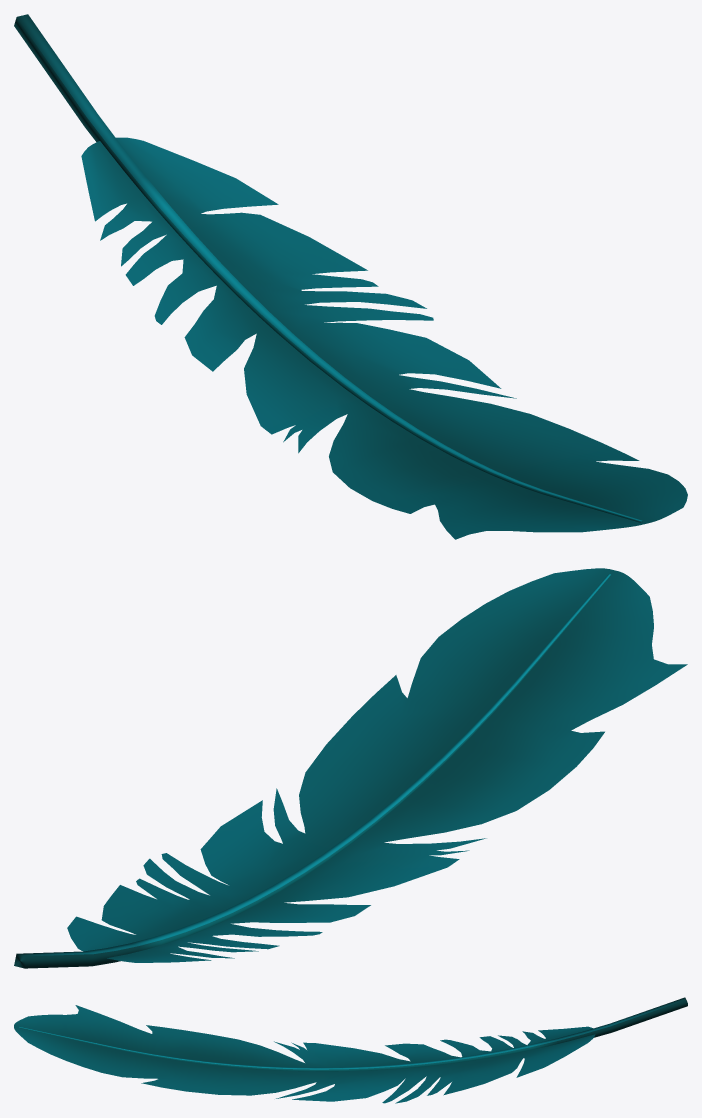
File: animals-animalparts-blackfeather_v1.fbx
3 views of the same model, one above another, from view 1: azimuth 30°, elevation 25°; view 2: azimuth 150°, elevation 25°; view 3: azimuth 270°, elevation 25° (orthographic). The views are drawn at different scales.
Visible parts, largest first — view 1: BlackFeather_v1; view 2: BlackFeather_v1; view 3: BlackFeather_v1.
Part boxes in pixels (x1=…): BlackFeather_v1: x1=14, y1=14, x2=687, y2=539; BlackFeather_v1: x1=14, y1=568, x2=687, y2=968; BlackFeather_v1: x1=14, y1=997, x2=687, y2=1103.
Size of the model in its own units: 0.5048 by 0.2454 by 2.03.
